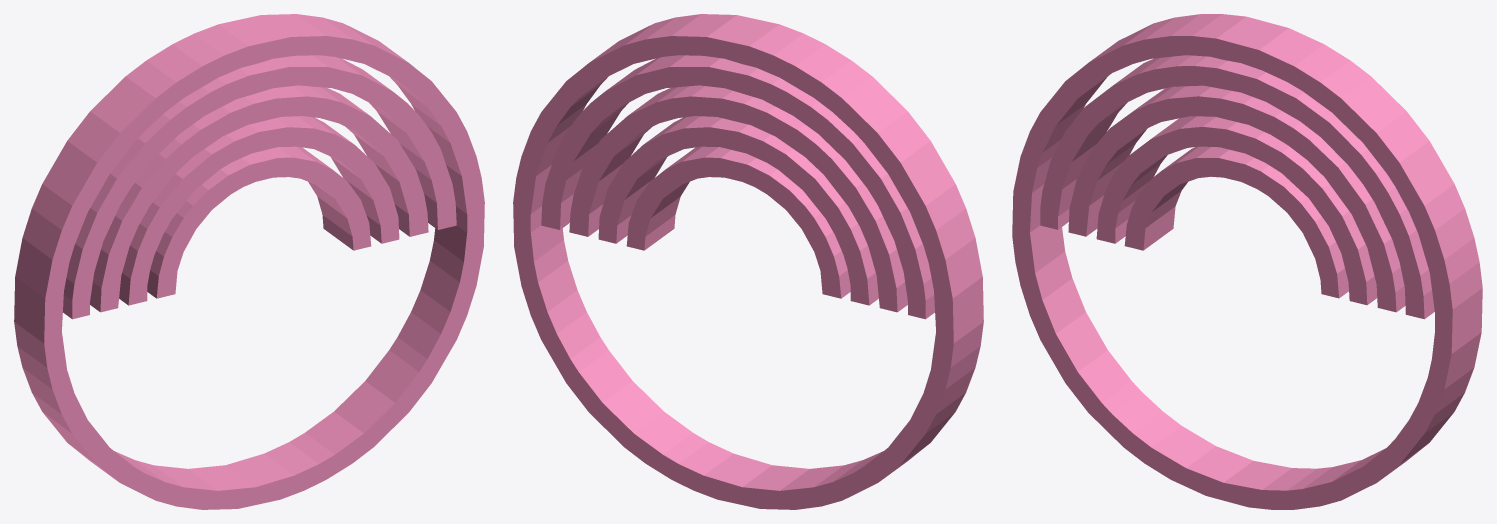
The model's file is wick-leaving-no-trace.glb.
3 views of the same model, side by side, from view 1: azimuth 30°, elevation 25°; view 2: azimuth 150°, elevation 25°; view 3: azimuth 330°, elevation 25° (orthographic).
Bounding box in the file's own units: 0.1074 × 0.1074 × 0.0127.
